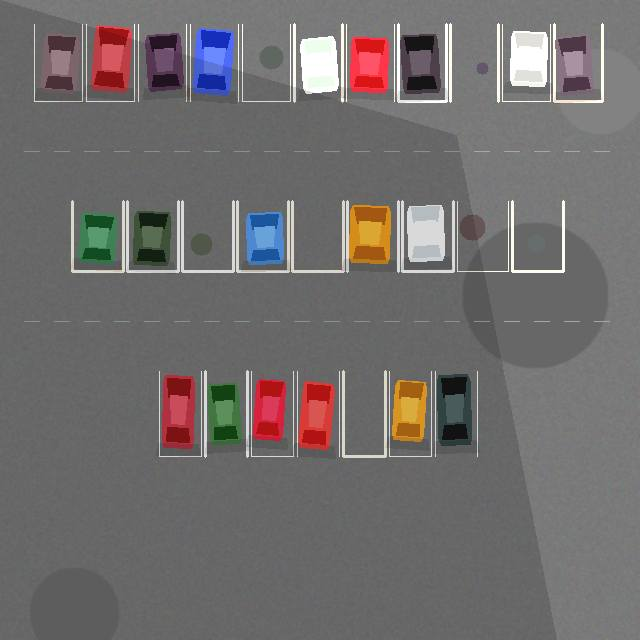space-empty: (242, 24, 290, 101), (450, 24, 498, 101), (182, 201, 233, 271), (292, 201, 343, 271), (457, 201, 508, 271), (512, 201, 563, 271), (343, 371, 385, 456)
space-occupied: (34, 24, 82, 101), (86, 24, 134, 101), (138, 24, 186, 101), (190, 24, 238, 101), (294, 24, 342, 101), (346, 24, 394, 101), (398, 24, 446, 101), (502, 24, 550, 101), (554, 24, 602, 101), (72, 201, 123, 271), (127, 201, 178, 271), (237, 201, 288, 271), (347, 201, 398, 271), (402, 201, 453, 271), (159, 371, 201, 456), (205, 371, 247, 456), (251, 371, 293, 456), (297, 371, 339, 456), (389, 371, 431, 456), (435, 371, 477, 456)
